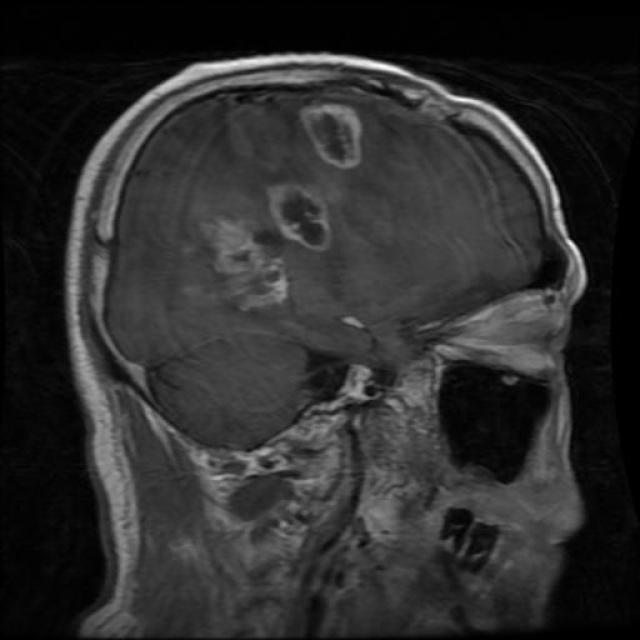glioma: (192, 216, 288, 312), (266, 178, 338, 256), (301, 94, 371, 172)
